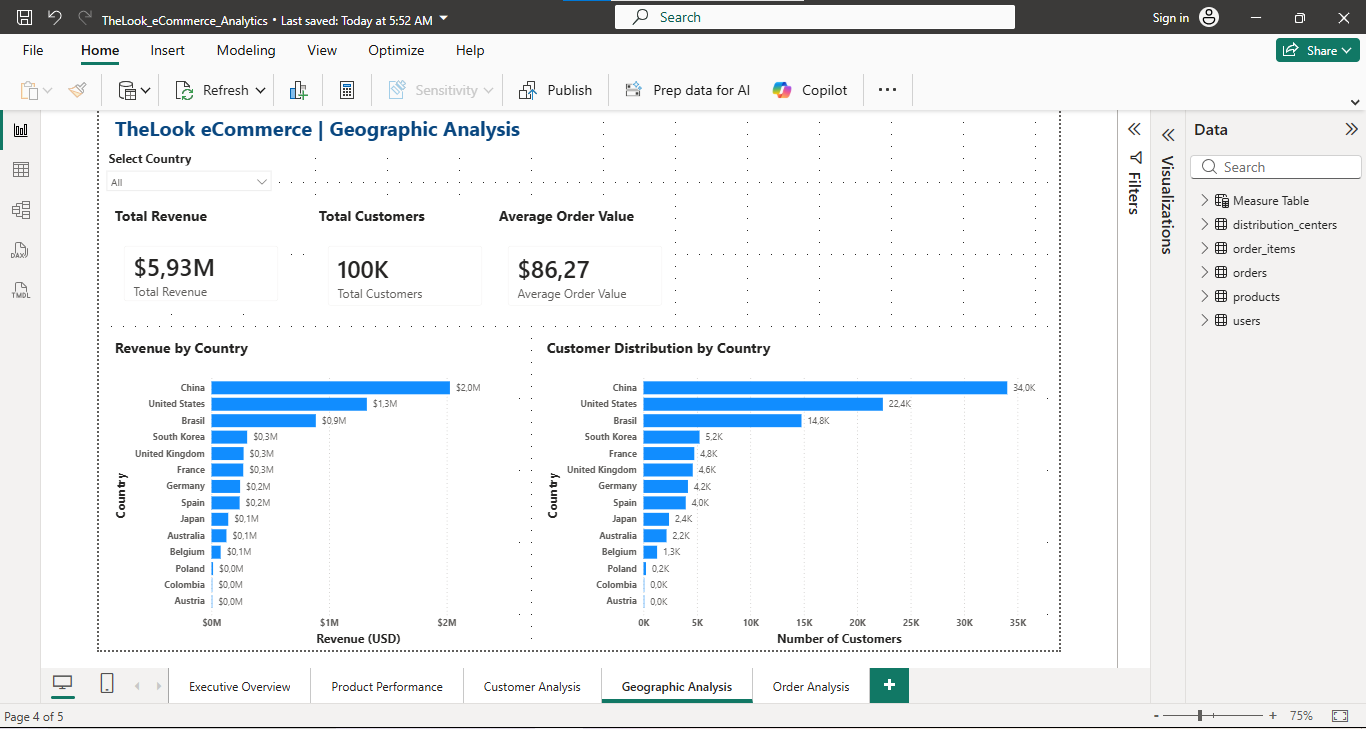

The dashboard page shown, as its layout file describes it:
{"tool":"powerbi","page":{"name":"Geographic Analysis","canvas":[1280,720],"ordinal":3},"visuals":[{"type":"textbox","box":[16,0,592,64],"z":0},{"type":"cardVisual","title":"Total Revenue","fields":{"Data":["Measure Table.Total Revenue"]},"box":[16,128,240,144],"z":1000},{"type":"cardVisual","title":"Total Customers","fields":{"Data":["Measure Table.Total Customers"]},"box":[288,128,240,150],"z":2000},{"type":"cardVisual","title":"Average Order Value","fields":{"Data":["Measure Table.Average Order Value"]},"box":[528,128,240,150],"z":3000},{"type":"clusteredBarChart","title":"Revenue by Country","fields":{"Category":["users.country"],"Y":["Measure Table.Total Revenue"]},"box":[16,304,544,416],"z":4000},{"type":"clusteredBarChart","title":"Customer Distribution by Country","fields":{"Category":["users.country"],"Y":["Measure Table.Total Customers"]},"box":[592,304,672,416],"z":5000},{"type":"slicer","fields":{"Values":["users.country"]},"box":[0,48,240,80],"z":6000}]}

Visuals, with their boxes on the page's 1280x720 design canvas (x1, y1, x2, y2). These are canvas units, not pixel positions in the 1366x729 screenshot, which may show the page scaled, cropped or inside an application window:
textbox: pyautogui.locateOnScreen(16, 0, 608, 64)
"Total Revenue" cardVisual: pyautogui.locateOnScreen(16, 128, 256, 272)
"Total Customers" cardVisual: pyautogui.locateOnScreen(288, 128, 528, 278)
"Average Order Value" cardVisual: pyautogui.locateOnScreen(528, 128, 768, 278)
"Revenue by Country" clusteredBarChart: pyautogui.locateOnScreen(16, 304, 560, 720)
"Customer Distribution by Country" clusteredBarChart: pyautogui.locateOnScreen(592, 304, 1264, 720)
slicer - users.country: pyautogui.locateOnScreen(0, 48, 240, 128)
